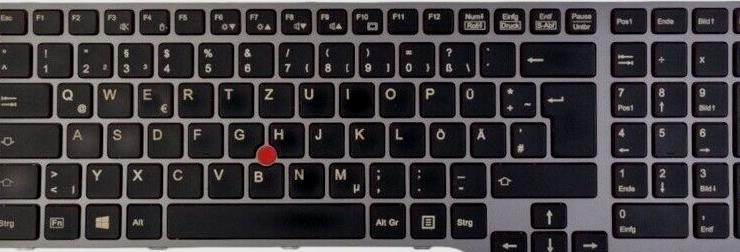0: (397, 40, 434, 77)
1: (35, 40, 72, 77)
2: (76, 41, 112, 77)
3: (116, 41, 153, 77)
4: (157, 41, 193, 77)
5: (196, 40, 233, 76)
6: (237, 40, 273, 77)
7: (277, 41, 314, 77)
8: (317, 41, 354, 77)
9: (357, 40, 394, 77)
a: (64, 120, 100, 158)
accent: (478, 40, 515, 76)
ae: (469, 120, 506, 157)
alt-left: (124, 202, 161, 239)
altgr-right: (368, 200, 405, 238)
b: (246, 161, 283, 198)
c: (165, 160, 202, 198)
caret: (1, 40, 30, 77)
comma: (367, 160, 405, 198)
d: (145, 120, 182, 158)
del: (518, 39, 595, 76)
e: (135, 80, 172, 117)
enter: (538, 79, 597, 157)
f: (186, 120, 222, 157)
g: (226, 120, 263, 157)
h: (267, 120, 303, 156)
hash: (509, 120, 545, 157)
i: (337, 79, 374, 117)
j: (307, 120, 344, 157)
k: (348, 119, 385, 157)
keyboard: (1, 1, 740, 252)
l: (388, 120, 424, 157)
less: (43, 160, 80, 199)
m: (327, 160, 364, 198)
minus: (448, 160, 486, 198)
n: (286, 160, 324, 198)
o: (377, 79, 414, 117)
oe: (428, 120, 465, 157)
p: (417, 79, 455, 117)
plus: (498, 79, 536, 117)
point: (407, 160, 446, 198)
q: (54, 80, 92, 117)
r: (176, 80, 213, 118)
s: (104, 120, 140, 157)
shift-left: (1, 160, 38, 199)
shift-lock: (1, 120, 60, 158)
shift-right: (488, 159, 597, 197)
space: (165, 200, 364, 238)
ss: (438, 40, 474, 77)
strg-left: (1, 201, 38, 240)
strg-right: (449, 201, 487, 239)
t: (216, 79, 252, 117)
tab: (1, 79, 50, 117)
u: (297, 80, 334, 118)
ue: (458, 79, 495, 117)
v: (206, 160, 243, 198)
w: (95, 79, 132, 117)
x: (125, 160, 162, 199)
y: (84, 161, 121, 199)
z: (256, 80, 294, 118)
